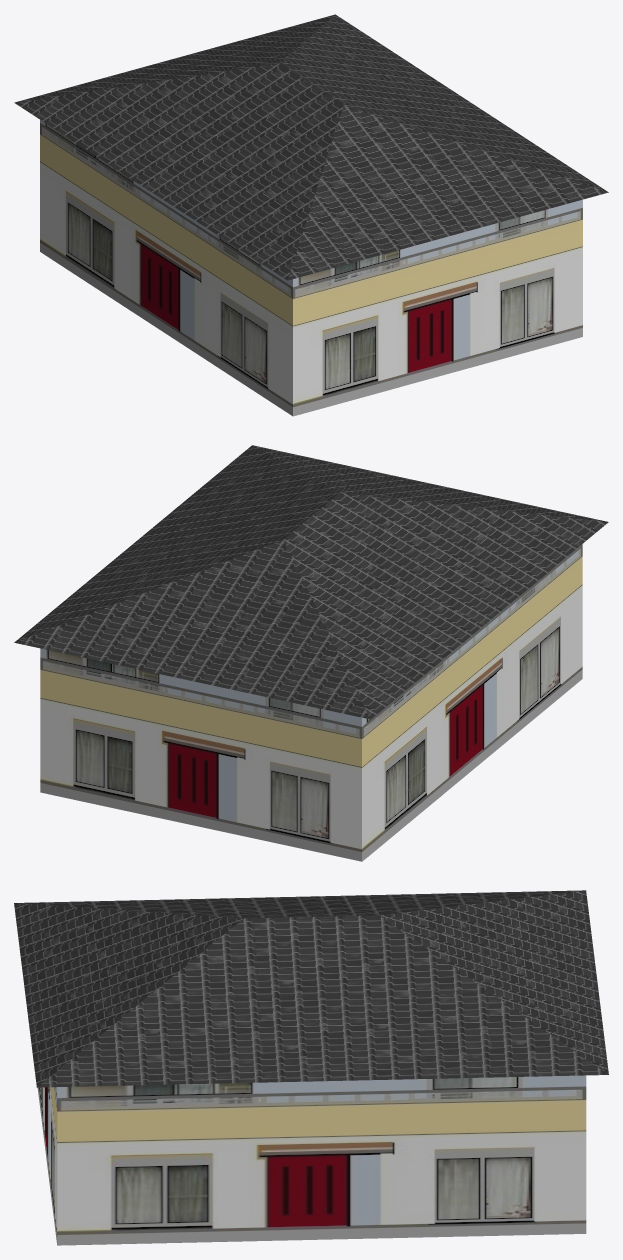
3 renders of one model, top to bottom at view 1: azimuth 30°, elevation 25°; view 2: azimuth 150°, elevation 25°; view 3: azimuth 270°, elevation 25°, orthographic. The views are drawn at different scales.
Visible parts, largest first — view 1: CityEngineMaterial_16_m, CityEngineMaterial_15_m; view 2: CityEngineMaterial_16_m, CityEngineMaterial_15_m; view 3: CityEngineMaterial_16_m, CityEngineMaterial_15_m.
Part boxes in pixels (left/top/right/bottom): CityEngineMaterial_16_m: left=14, top=14, right=608, bottom=280; CityEngineMaterial_15_m: left=40, top=120, right=582, bottom=416; CityEngineMaterial_16_m: left=14, top=445, right=608, bottom=719; CityEngineMaterial_15_m: left=40, top=544, right=582, bottom=861; CityEngineMaterial_16_m: left=14, top=890, right=608, bottom=1087; CityEngineMaterial_15_m: left=37, top=1075, right=586, bottom=1245.
Bounding box in the file's own units: 20.39 × 11.56 × 26.
